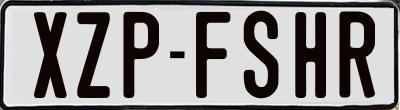F: (194, 11, 232, 99)
H: (293, 9, 327, 98)
P: (123, 9, 162, 97)
R: (339, 8, 380, 101)
S: (244, 11, 285, 99)
X: (32, 11, 70, 99)
Z: (75, 12, 114, 98)
